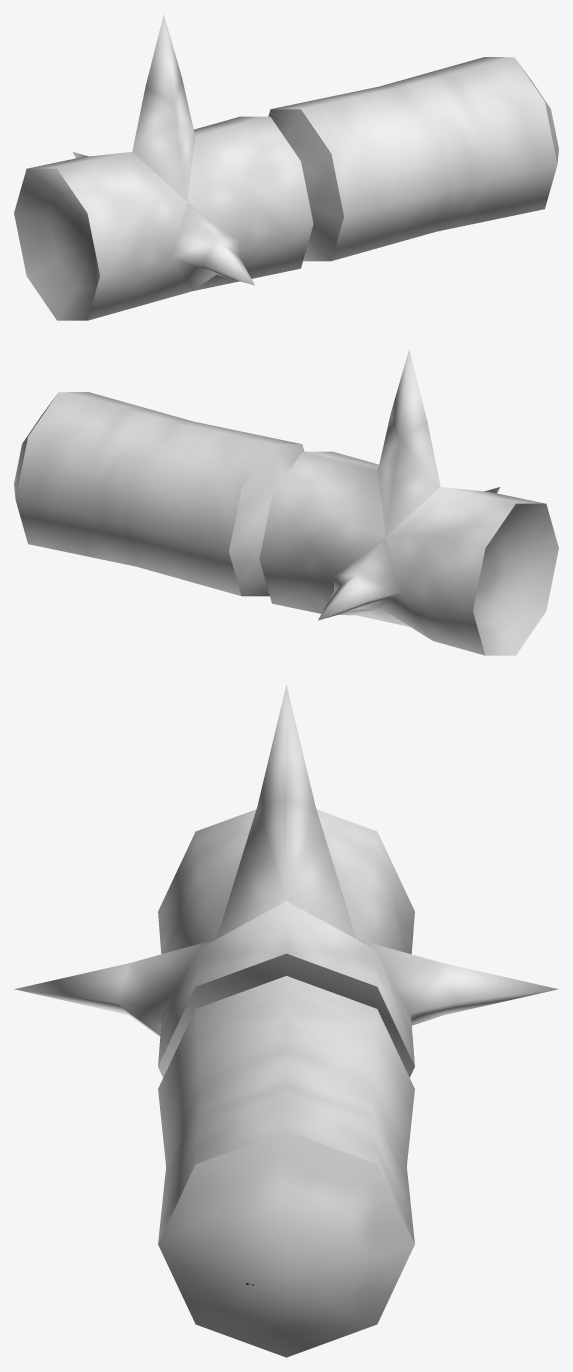
File: bone_dragon_vertebrae.fbx
The picture shows the model from 3 angles, top to bottom: view 1: azimuth 30°, elevation 25°; view 2: azimuth 150°, elevation 25°; view 3: azimuth 270°, elevation 25°; orthographic projection. The views are drawn at different scales.
Parts seen in each view (by area): view 1: Cylinder001, Cylinder002; view 2: Cylinder001, Cylinder002; view 3: Cylinder002, Cylinder001.
Boxes of the visible parts, box(x1,y1,x2,y2) form: Cylinder001: box(14, 14, 313, 320); Cylinder002: box(268, 57, 558, 261); Cylinder001: box(259, 349, 558, 655); Cylinder002: box(14, 392, 304, 596); Cylinder002: box(158, 976, 414, 1357); Cylinder001: box(14, 684, 558, 1077).
Size of the model in its own units: 145 by 79.34 by 93.71.
Materials: 2 (2 with a texture image).
